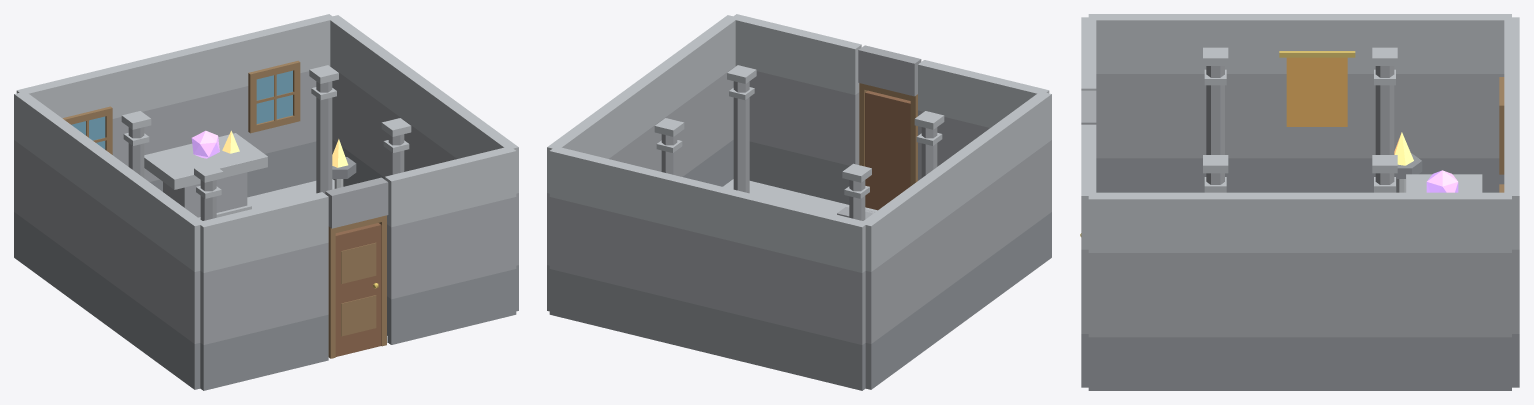
File: temple_hall_interior.glb
3 views of the same model, side by side, from view 1: azimuth 30°, elevation 25°; view 2: azimuth 150°, elevation 25°; view 3: azimuth 270°, elevation 25° (orthographic). The views are drawn at different scales.
Visible parts, largest first — view 1: floor_slab.001; view 2: floor_slab.001; view 3: floor_slab.001.
Part boxes in pixels (x1=…): floor_slab.001: x1=14, y1=14, x2=518, y2=390; floor_slab.001: x1=547, y1=14, x2=1051, y2=390; floor_slab.001: x1=1080, y1=14, x2=1519, y2=390.
Size of the model in its own units: 5.18 by 2.5 by 5.19.
